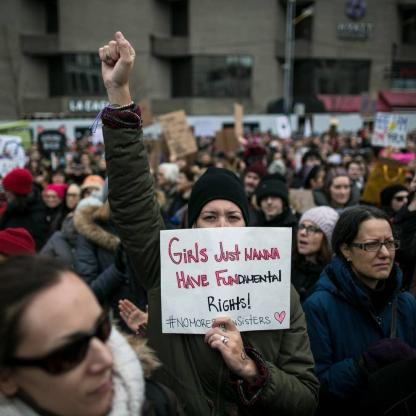fist: (89, 29, 153, 114)
